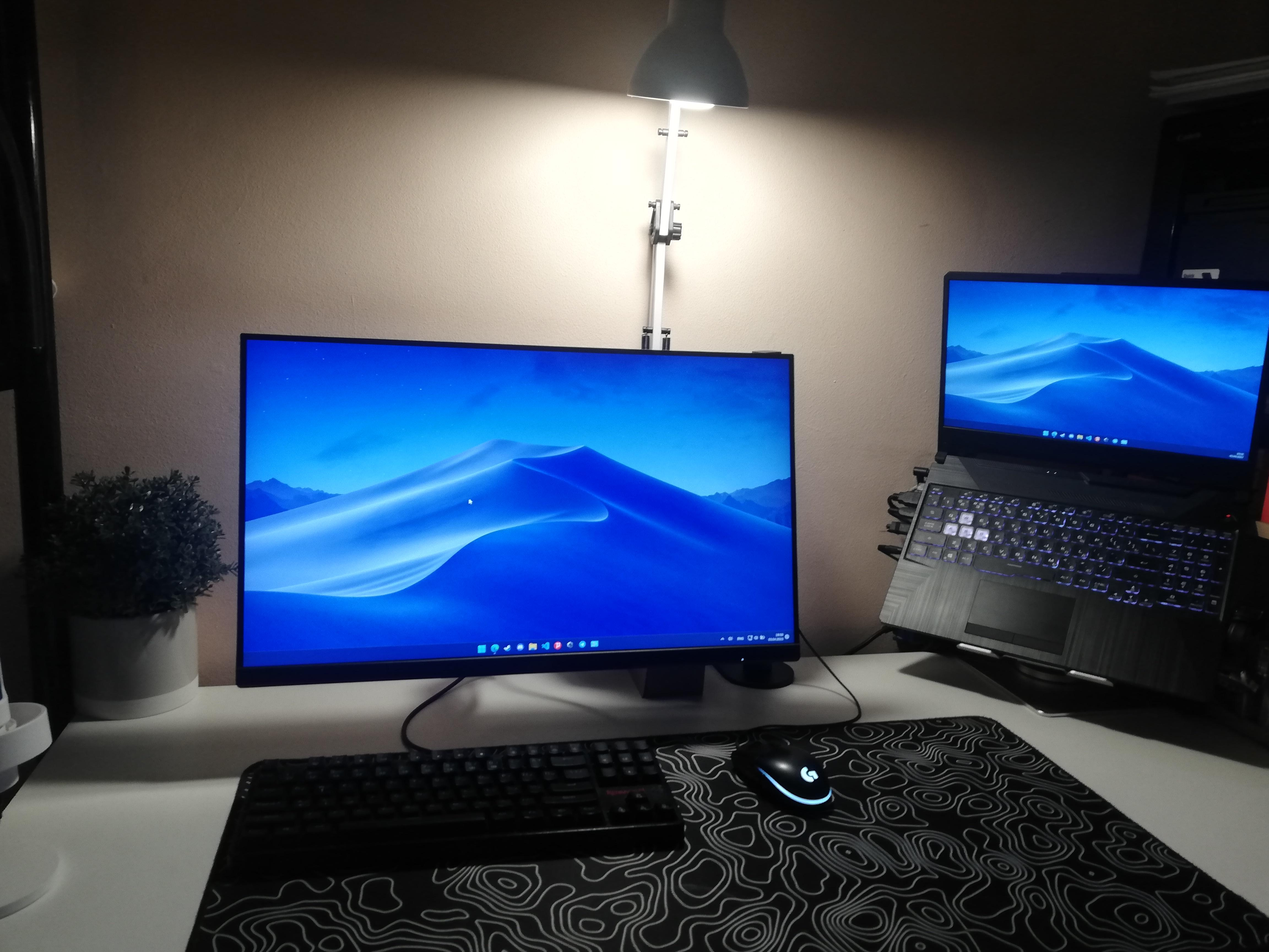monitor: (233, 326, 806, 689), (938, 266, 1269, 525)
